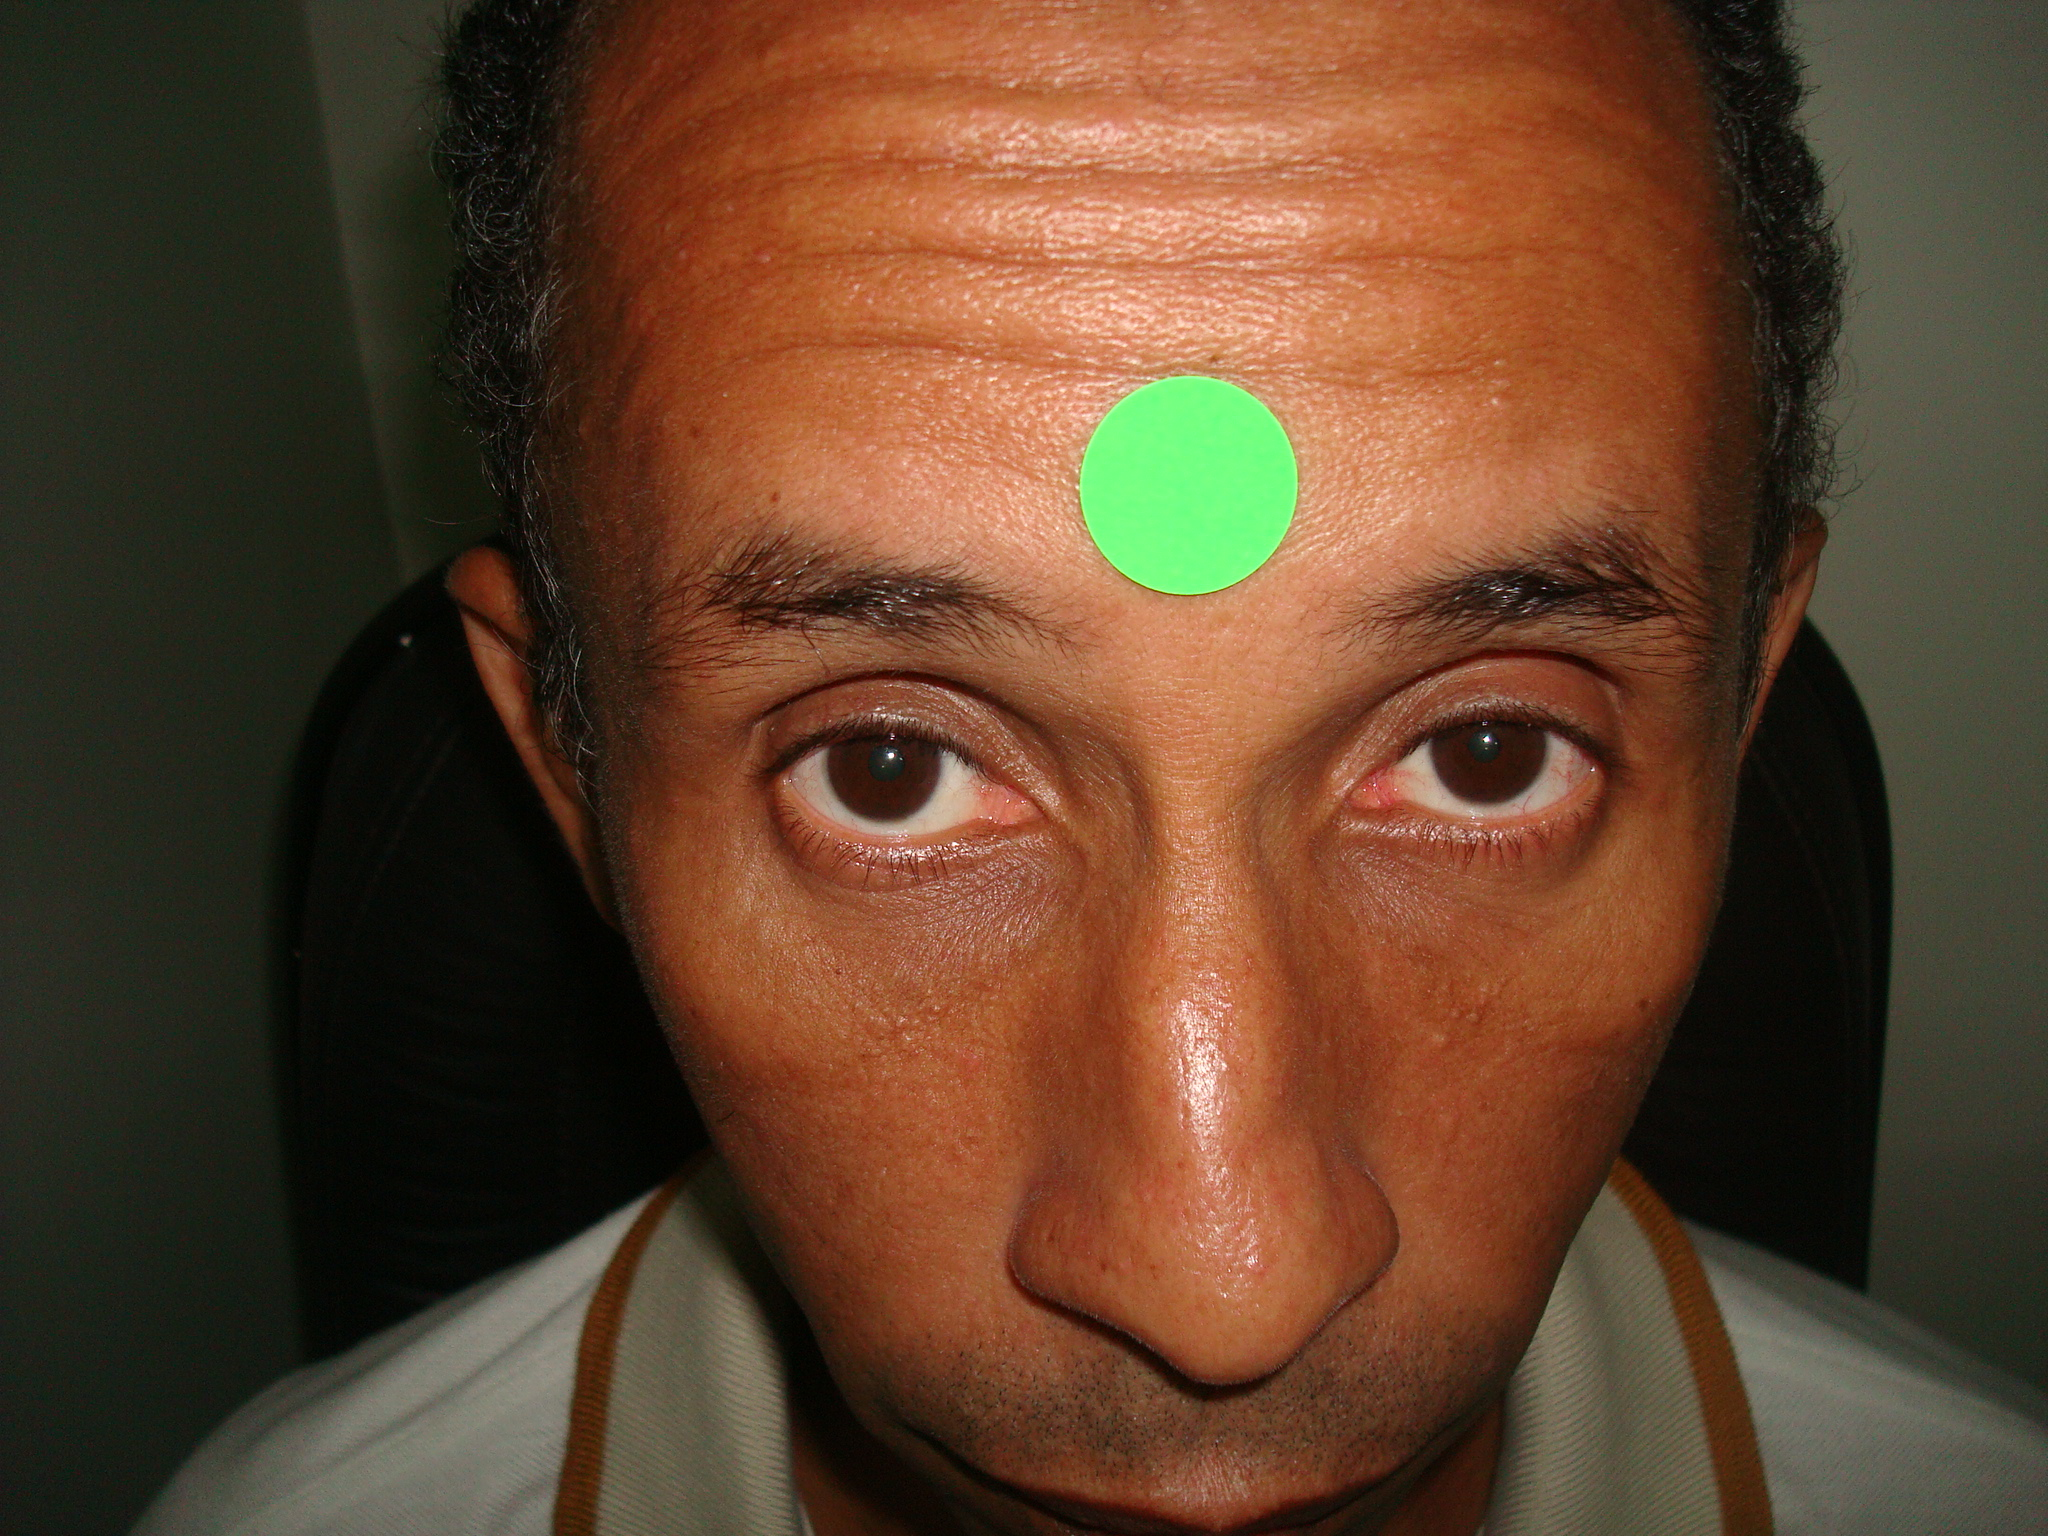flash: (882, 745, 901, 765), (1476, 733, 1495, 745)
limbo: (826, 718, 945, 823), (1426, 699, 1543, 802)
